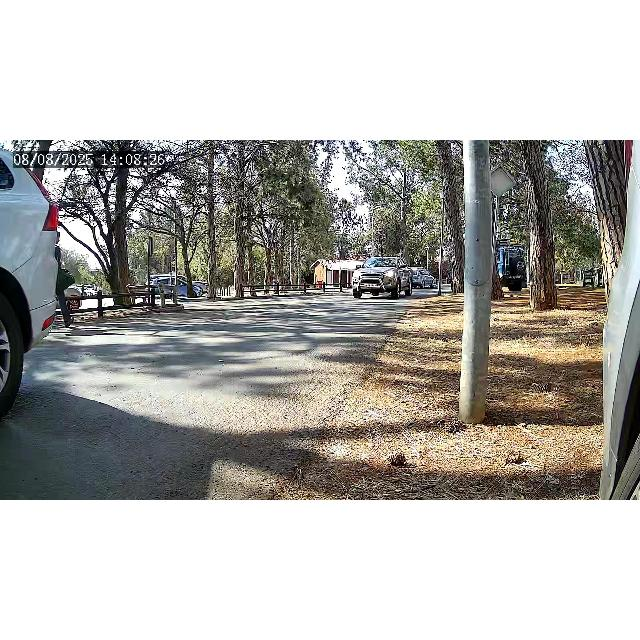car: (0, 142, 60, 416), (351, 256, 413, 300)
plate: (363, 284, 377, 288)
